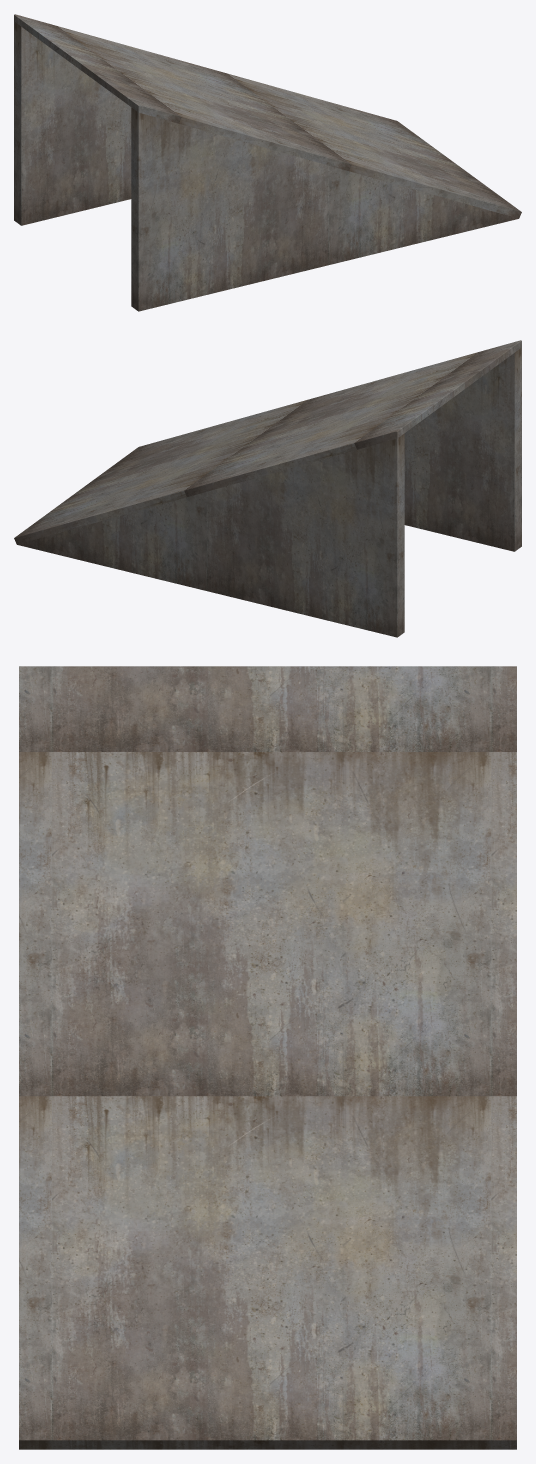
The model's file is wall01_stairs_6m.FBX.
The picture shows the model from 3 angles, top to bottom: view 1: azimuth 30°, elevation 25°; view 2: azimuth 150°, elevation 25°; view 3: azimuth 270°, elevation 25°; orthographic projection. The views are drawn at different scales.
Visible parts, largest first — view 1: wall01_stairs_6m_R, wall01_stairs_6m_roof, wall01_stairs_6m_L; view 2: wall01_stairs_6m_L, wall01_stairs_6m_roof, wall01_stairs_6m_R; view 3: wall01_stairs_6m_roof.
Part boxes in pixels (x1,y1,x2,y2): wall01_stairs_6m_R: (131, 107, 518, 311); wall01_stairs_6m_roof: (14, 14, 521, 218); wall01_stairs_6m_L: (14, 21, 131, 225); wall01_stairs_6m_L: (17, 433, 404, 637); wall01_stairs_6m_roof: (14, 340, 521, 544); wall01_stairs_6m_R: (404, 347, 521, 551); wall01_stairs_6m_roof: (19, 666, 516, 1449).
Size of the model in its own units: 604 by 310 by 340.
